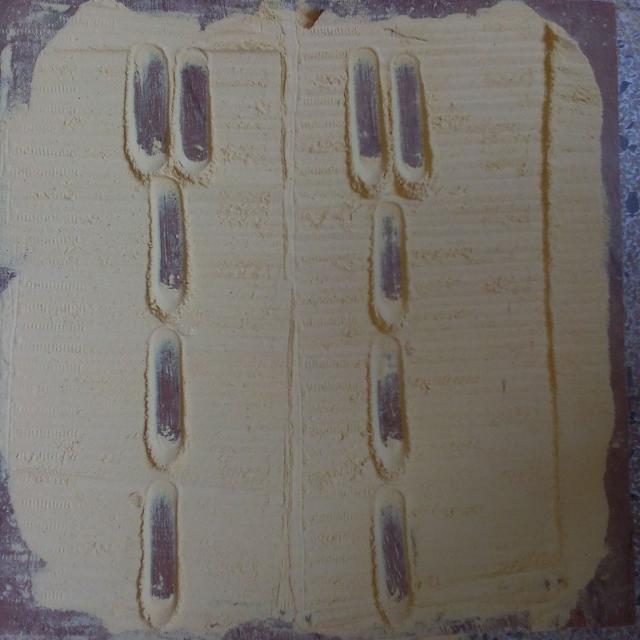double: (338, 40, 437, 165), (126, 43, 217, 160)
single: (363, 326, 415, 448), (142, 187, 192, 306), (138, 490, 187, 605), (374, 493, 418, 617), (365, 198, 413, 307), (144, 340, 193, 437)
